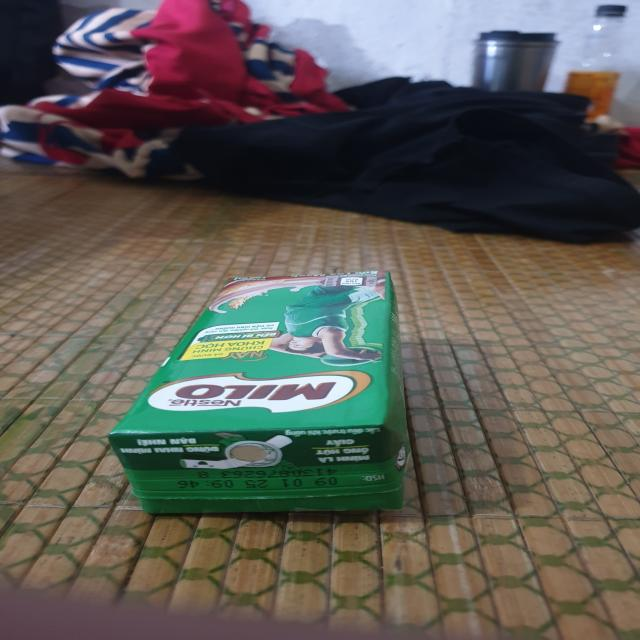Milo: (107, 270, 417, 519)
